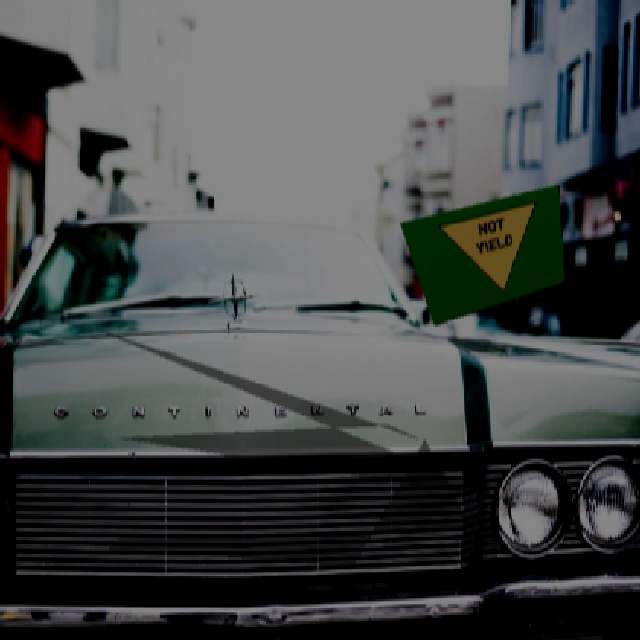NOT_YIELD: (437, 199, 544, 308)
